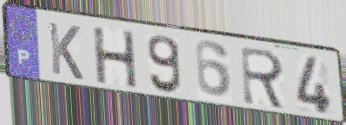4: (294, 54, 334, 116)
6: (194, 38, 233, 105)
9: (145, 34, 183, 96)
H: (90, 26, 140, 90)
K: (46, 19, 86, 82)
R: (239, 44, 288, 112)
